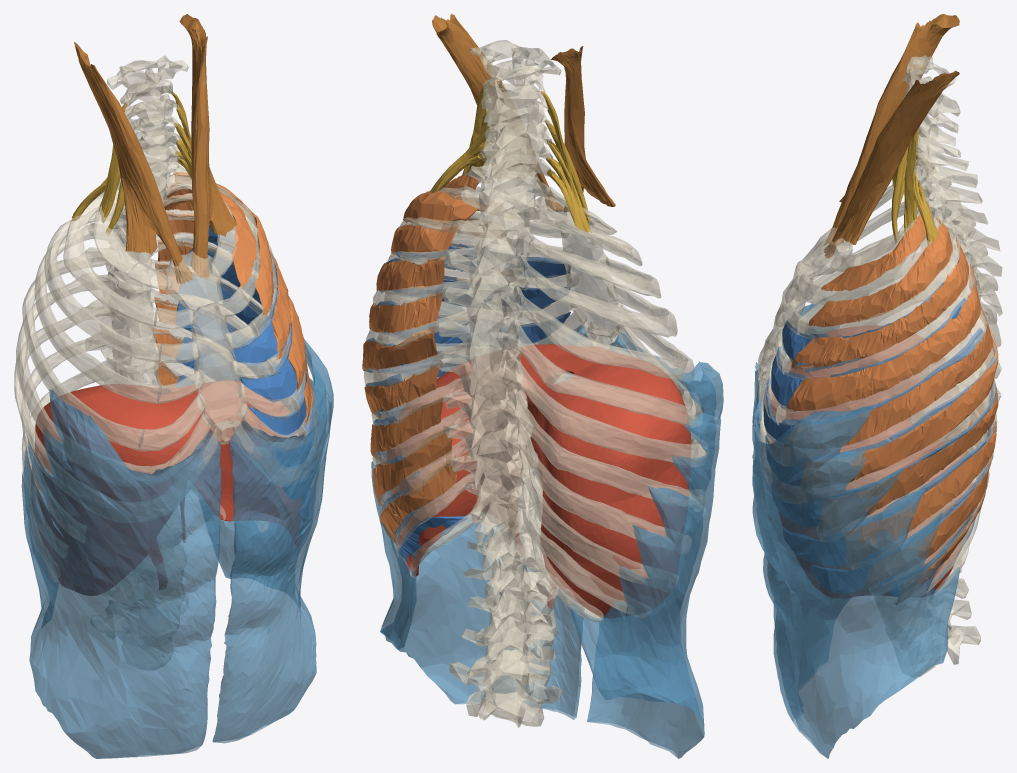
The model's file is breathmuscles.glb.
3 renders of one model, left to right at view 1: azimuth 30°, elevation 25°; view 2: azimuth 150°, elevation 25°; view 3: azimuth 270°, elevation 25°, orthographic. The views are drawn at different scales.
Visible parts, largest first — view 1: abdominal, ribs, diaphragm, spine, intic, scm, extic, scalenes; view 2: ribs, spine, abdominal, diaphragm, extic, intic, scm, scalenes; view 3: abdominal, extic, ribs, spine, intic, scm, diaphragm, scalenes.
Part boxes in pixels (x1,y1,x2,y2): abdominal: (21,339,333,758); ribs: (14,166,318,582); diaphragm: (32,381,301,595); spine: (80,55,188,669); intic: (175,213,316,537); scm: (74,14,236,284); extic: (152,172,318,524); scalenes: (72,91,191,234); ribs: (364,169,708,622); spine: (437,39,562,727); abdominal: (371,302,723,758); diaphragm: (387,344,691,618); extic: (362,174,507,546); intic: (365,243,570,562); scm: (432,14,615,212); scalenes: (429,79,591,232); abdominal: (752,293,959,758); extic: (784,201,998,604); ribs: (758,167,998,606); spine: (875,55,1002,677); intic: (763,281,996,597); scm: (823,14,959,258); diaphragm: (769,326,972,598); scalenes: (891,128,938,244).
Size of the model in its own units: 0.2817 by 0.6437 by 0.2189.
